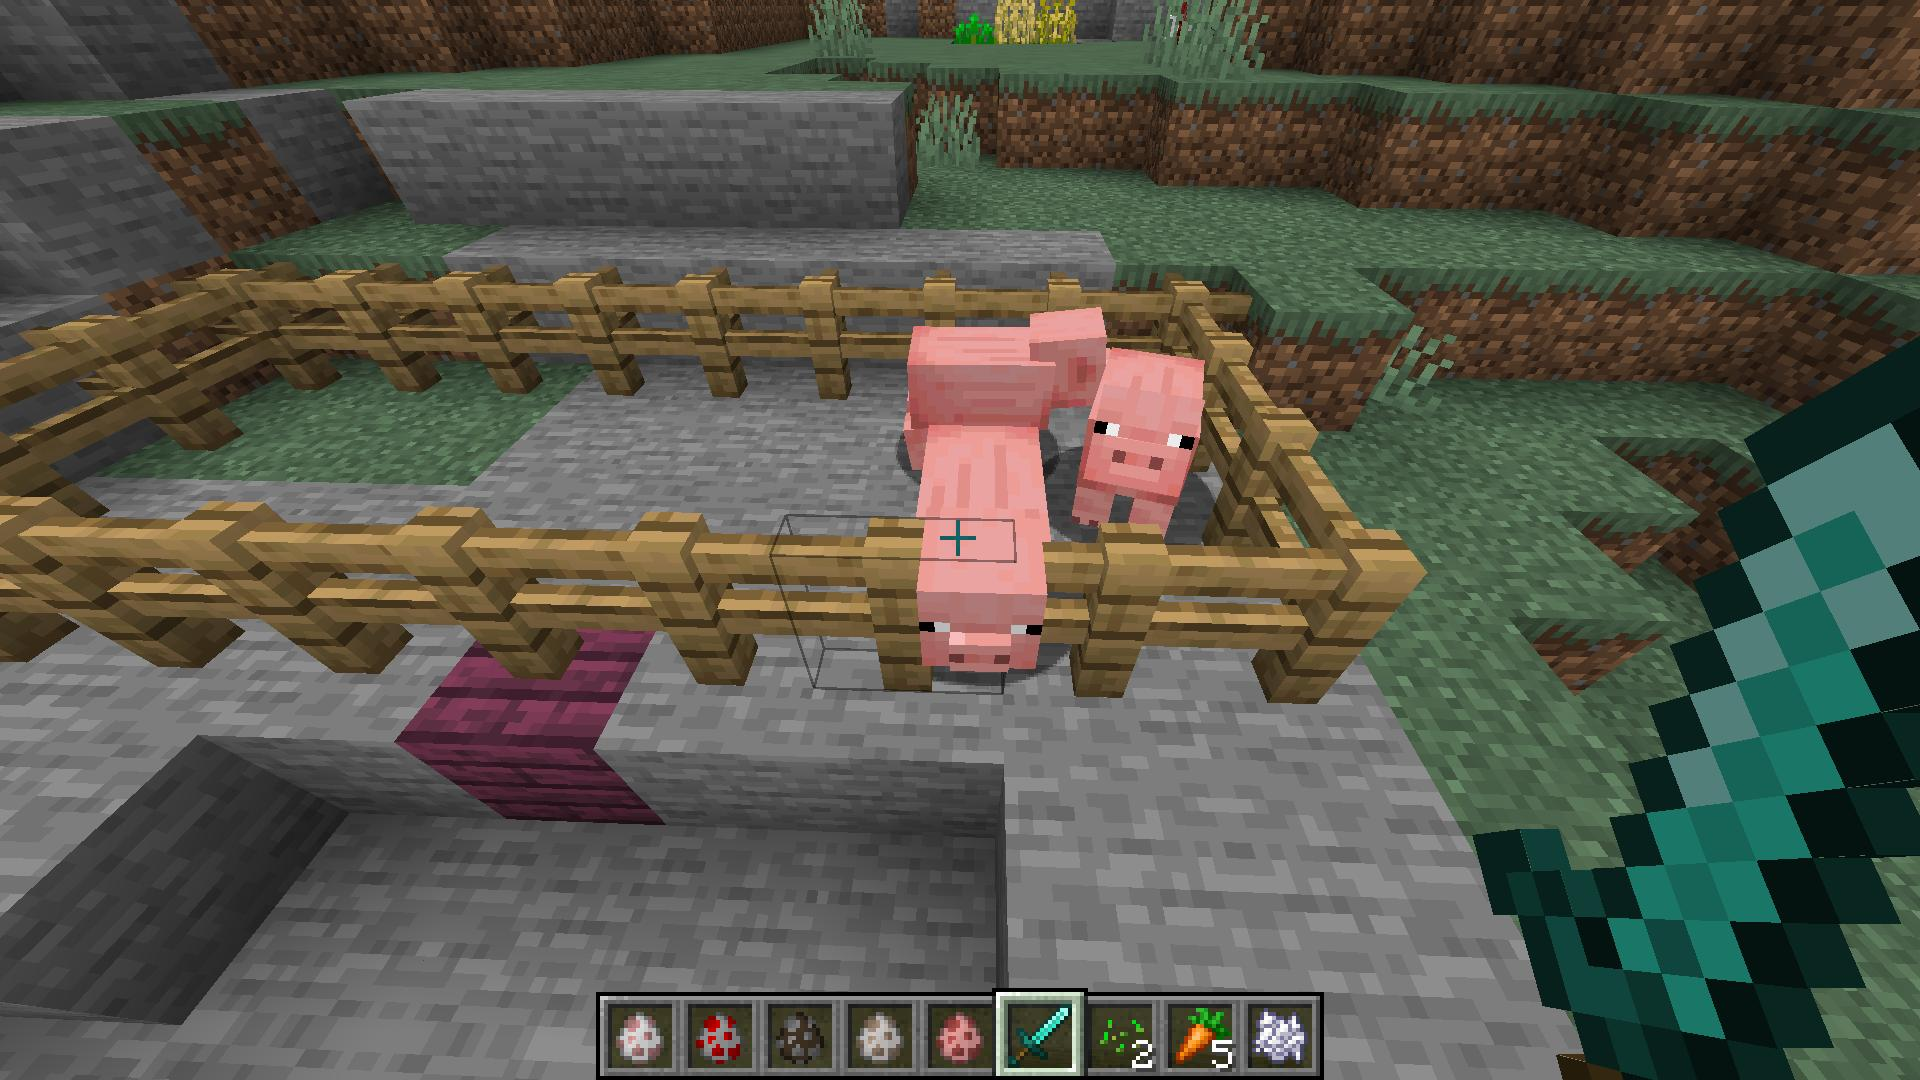pig: (911, 417, 1054, 688), (1065, 340, 1213, 542)
